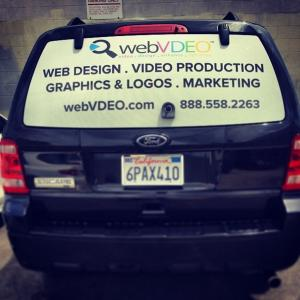Vehicle-registration-plate: (121, 155, 185, 188)
